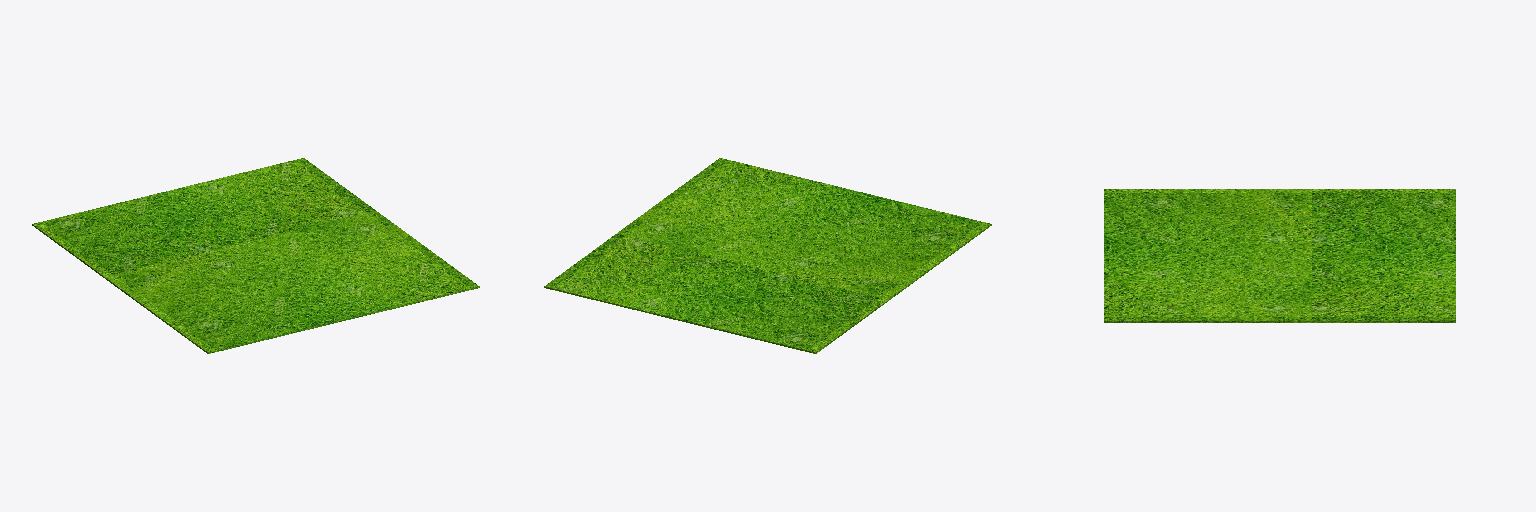
3 views of the same model, side by side, from view 1: azimuth 30°, elevation 25°; view 2: azimuth 150°, elevation 25°; view 3: azimuth 270°, elevation 25° (orthographic).
Visible parts, largest first — view 1: pCube1; view 2: pCube1; view 3: pCube1.
Part boxes in pixels (x1,y1,x2,y2): pCube1: (32,158,479,353); pCube1: (544,158,991,353); pCube1: (1104,189,1455,322).
Size of the model in its own units: 29.94 by 0.1716 by 33.56.
1 materials, 1 textured.